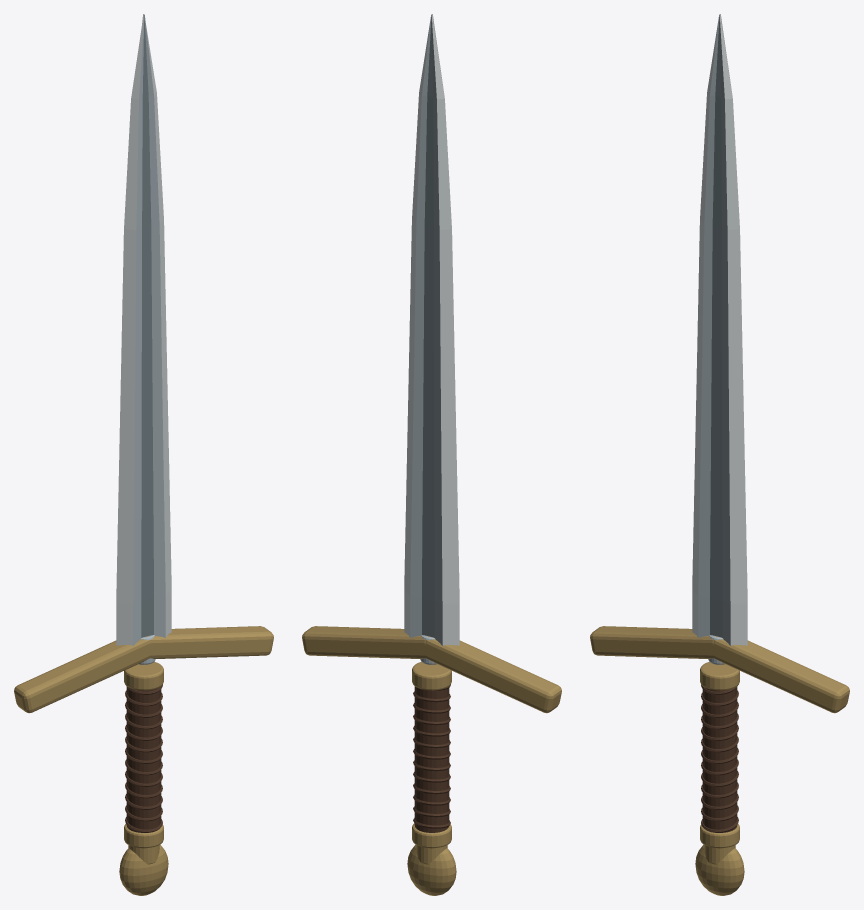
Rendered from sword.glb.
3 views of the same model, side by side, from view 1: azimuth 30°, elevation 25°; view 2: azimuth 150°, elevation 25°; view 3: azimuth 330°, elevation 25° (orthographic).
Visible parts, largest first — view 1: Village longsword; view 2: Village longsword; view 3: Village longsword.
Part boxes in pixels (left/top/right/bottom): Village longsword: left=14, top=14, right=273, bottom=895; Village longsword: left=302, top=14, right=561, bottom=895; Village longsword: left=590, top=14, right=849, bottom=895.
Bounding box in the file's own units: 0.3885 × 1.3 × 0.054.
